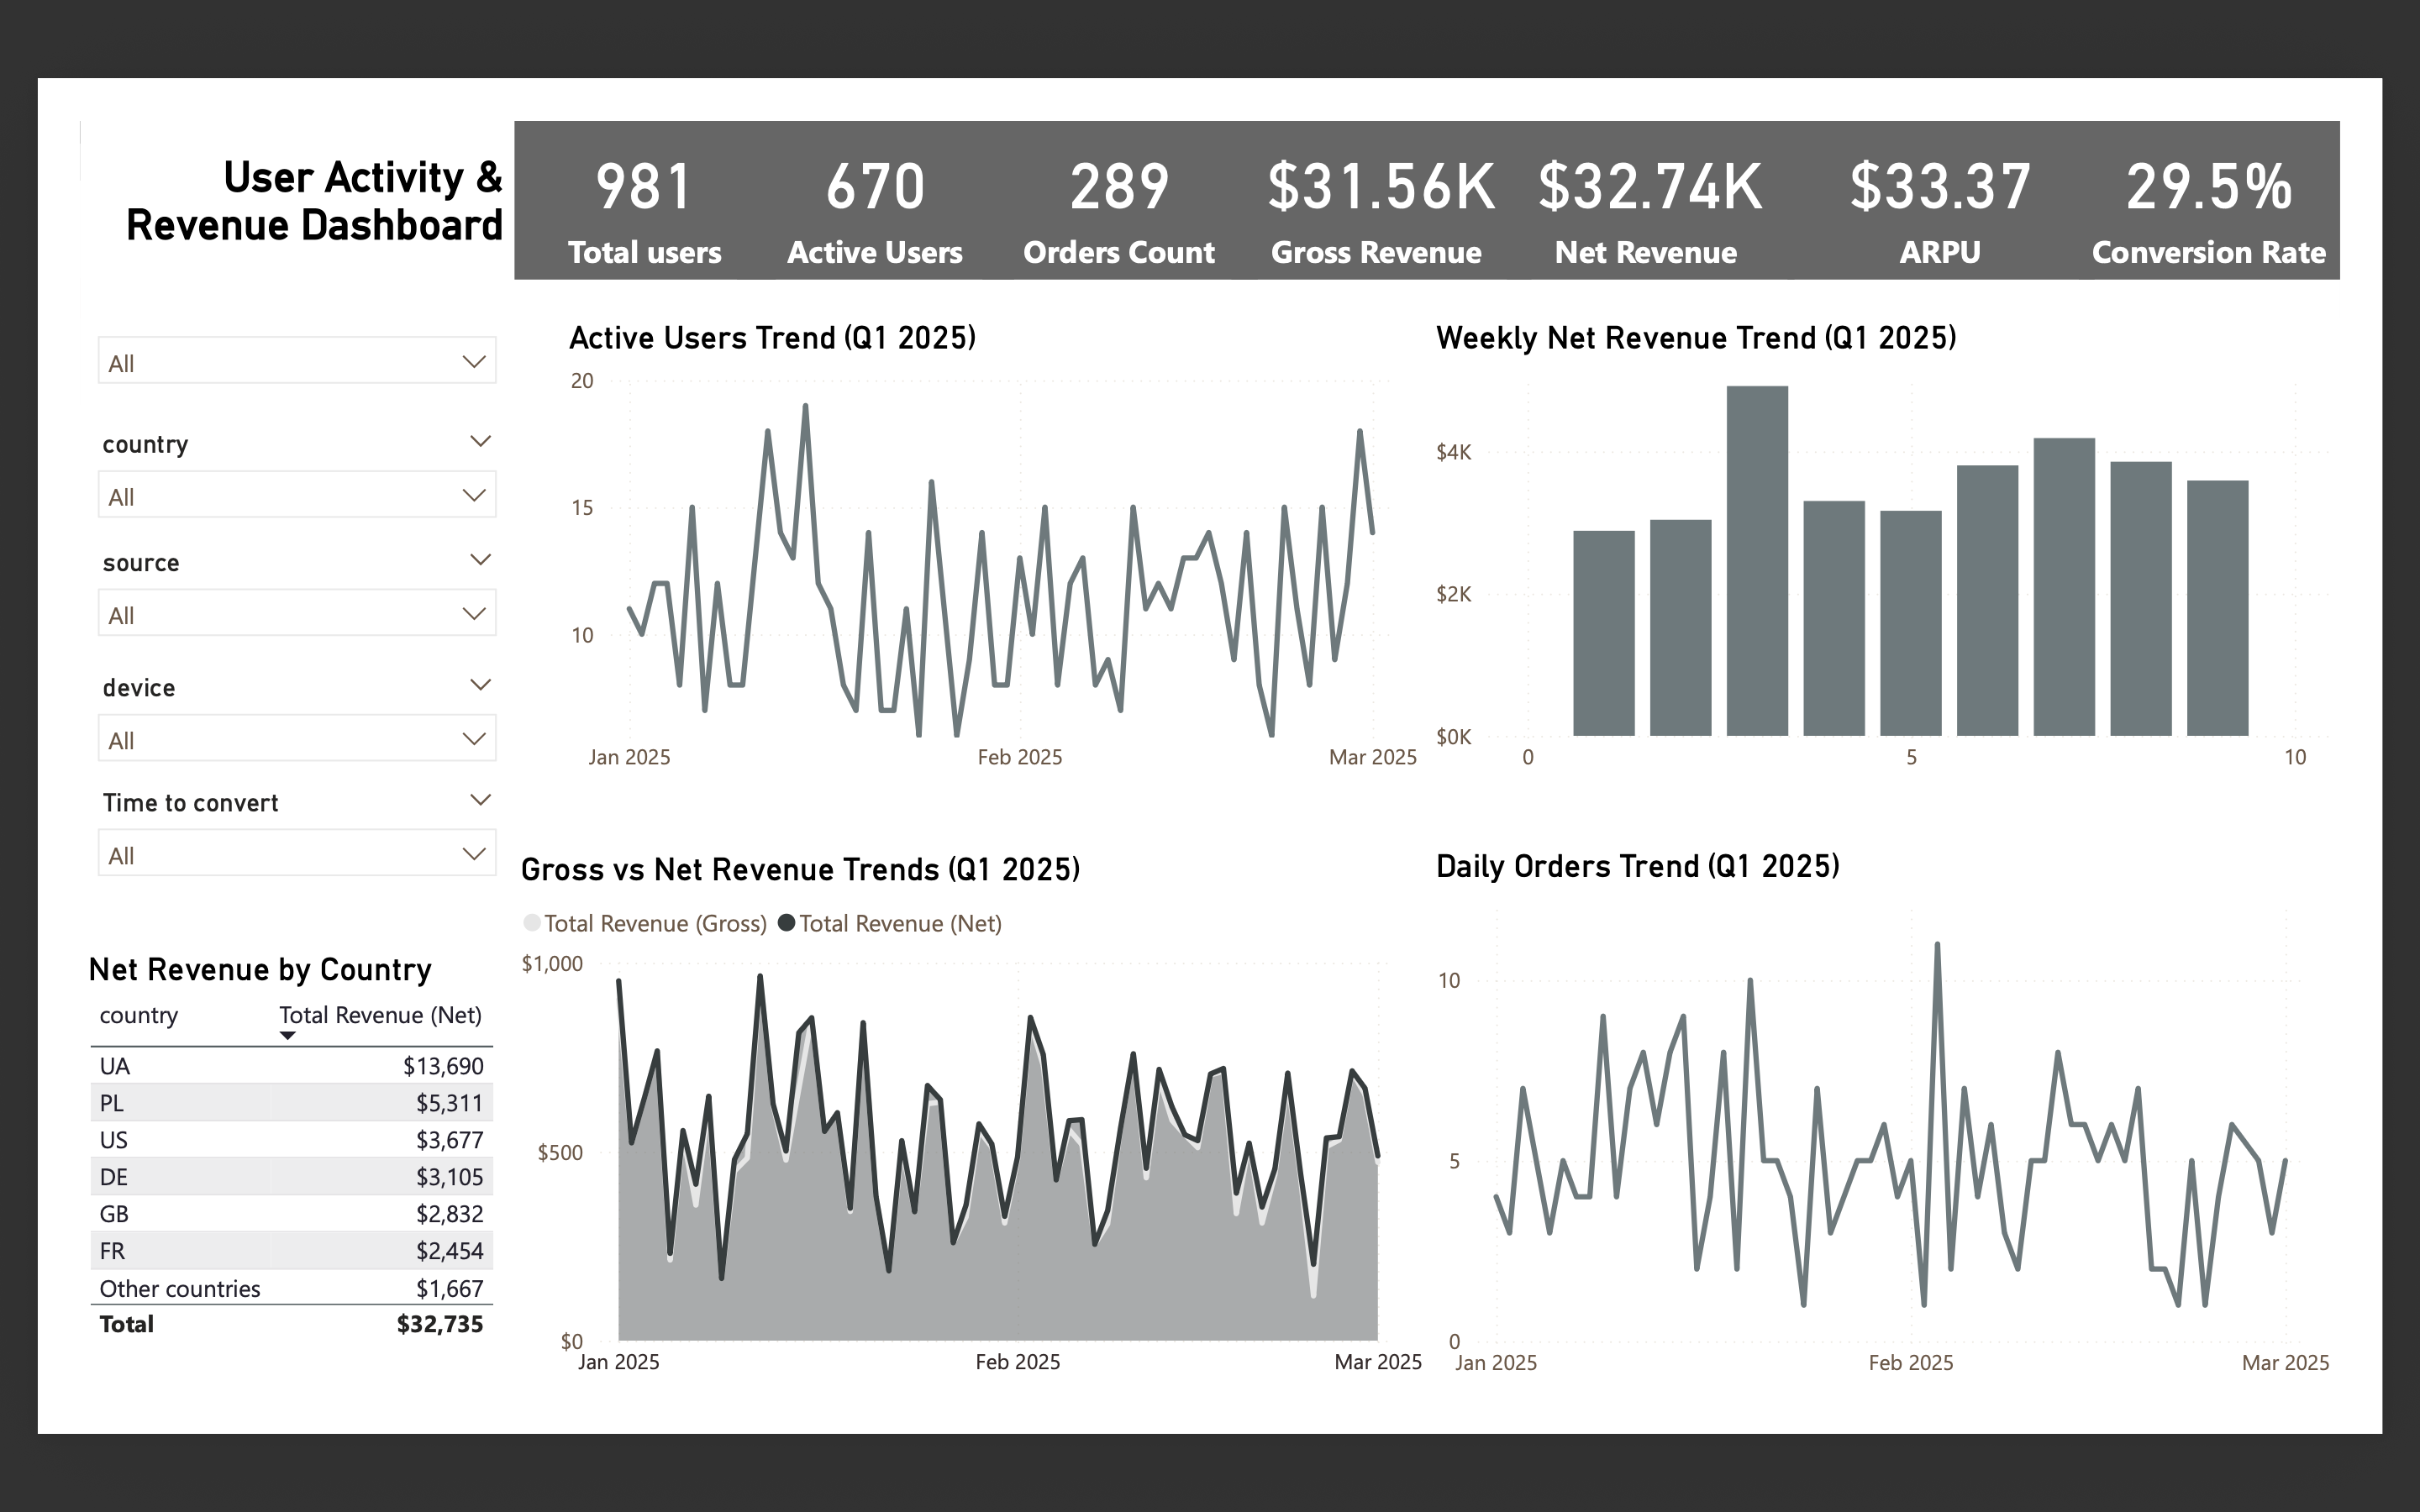

The dashboard page shown, as its layout file describes it:
{"tool":"powerbi","page":{"name":"User Activity & Revenue – 2025 Q1","canvas":[1280,720],"ordinal":0},"visuals":[{"type":"card","fields":{"Values":["_calc.Total users"]},"box":[245.9,0,147.7,89.7],"z":0,"group":"g1"},{"type":"lineChart","title":"Active Users Trend (Q1 2025)","fields":{"Y":["_calc.Active Users"],"Category":["Date.Date.Variation.Date Hierarchy.Year","Date.Date.Variation.Date Hierarchy.Quarter","Date.Date.Variation.Date Hierarchy.Month","Date.Date.Variation.Date Hierarchy.Day"]},"box":[272.1,112.1,490.5,266.2],"z":0},{"type":"card","fields":{"Values":["_calc.Active Users"]},"box":[372.3,0,156.8,90.4],"z":1000,"group":"g1"},{"type":"areaChart","title":"Gross vs Net Revenue Trends (Q1 2025)","fields":{"Y":["_calc.Total Revenue (Gross)"],"Y2":["_calc.Total Revenue (Net)"],"Category":["Date.Date.Variation.Date Hierarchy.Year","Date.Date.Variation.Date Hierarchy.Quarter","Date.Date.Variation.Date Hierarchy.Month","Date.Date.Variation.Date Hierarchy.Day"]},"box":[245.2,412.7,520.4,308],"z":1000},{"type":"card","fields":{"Values":["_calc.Orders Count"]},"box":[510.5,0,156.8,90.4],"z":2000,"group":"g1"},{"type":"lineChart","title":"Daily Orders Trend (Q1 2025)","fields":{"Y":["_calc.Orders Count"],"Category":["Date.Date.Variation.Date Hierarchy.Year","Date.Date.Variation.Date Hierarchy.Quarter","Date.Date.Variation.Date Hierarchy.Month","Date.Date.Variation.Date Hierarchy.Day"]},"box":[762.6,411.2,517.4,309.5],"z":2000},{"type":"card","fields":{"Values":["_calc.Total Revenue (Gross)"]},"box":[651.4,0,170.1,90],"z":3000,"group":"g1"},{"type":"clusteredColumnChart","title":"Weekly Net Revenue Trend (Q1 2025)","fields":{"Category":["Date.Week"],"Y":["_calc.Total Revenue (Net)"]},"box":[762.6,112.1,518.9,266.2],"z":3000},{"type":"card","fields":{"Values":["_calc.Total Revenue (Net)"]},"box":[808.3,0,162.2,90.4],"z":4000,"group":"g1"},{"type":"tableEx","title":"Net Revenue by Country","fields":{"Values":["users.country","_calc.Total Revenue (Net)"]},"box":[0,469.5,245.2,251.2],"z":4000},{"type":"card","fields":{"Values":["_calc.ARPU"]},"box":[966.5,0,174.1,90.4],"z":5000,"group":"g1"},{"type":"slicer","fields":{"Values":["Date.Date"]},"box":[0,111.7,245.9,58.5],"z":5000},{"type":"card","fields":{"Values":["_calc.Conversion Rate"]},"box":[1132.3,0,147.7,89.7],"z":6000,"group":"g1"},{"type":"slicer","fields":{"Values":["users.country"]},"box":[0,170.1,245.9,66.5],"z":6000},{"type":"slicer","fields":{"Values":["users.source"]},"box":[0,236.6,245.9,83.7],"z":7000},{"type":"slicer","fields":{"Values":["users.device"]},"box":[0,308.4,245.9,69.1],"z":8000},{"type":"slicer","fields":{"Values":["users.Time_to_convert_group"]},"box":[0,373.5,245.9,74.4],"z":9000},{"type":"group","id":"g1","title":"Group 1","box":[245.9,0,1034.1,90.4],"z":10000},{"type":"textbox","box":[0,12.7,244.8,76.5],"z":11000}]}

Visuals, with their boxes on the page's 1280x720 design canvas (x1, y1, x2, y2). These are canvas units, not pixel positions in the 2420x1512 screenshot, which may show the page scaled, cropped or inside an application window:
card - _calc.Total users: l=246, t=0, r=394, b=90
"Active Users Trend (Q1 2025)" lineChart: l=272, t=112, r=763, b=378
card - _calc.Active Users: l=372, t=0, r=529, b=90
"Gross vs Net Revenue Trends (Q1 2025)" areaChart: l=245, t=413, r=766, b=721
card - _calc.Orders Count: l=510, t=0, r=667, b=90
"Daily Orders Trend (Q1 2025)" lineChart: l=763, t=411, r=1280, b=721
card - _calc.Total Revenue (Gross): l=651, t=0, r=822, b=90
"Weekly Net Revenue Trend (Q1 2025)" clusteredColumnChart: l=763, t=112, r=1282, b=378
card - _calc.Total Revenue (Net): l=808, t=0, r=970, b=90
"Net Revenue by Country" tableEx: l=0, t=470, r=245, b=721
card - _calc.ARPU: l=966, t=0, r=1141, b=90
slicer - Date.Date: l=0, t=112, r=246, b=170
card - _calc.Conversion Rate: l=1132, t=0, r=1280, b=90
slicer - users.country: l=0, t=170, r=246, b=237
slicer - users.source: l=0, t=237, r=246, b=320
slicer - users.device: l=0, t=308, r=246, b=378
slicer - users.Time_to_convert_group: l=0, t=374, r=246, b=448
"Group 1" group: l=246, t=0, r=1280, b=90
textbox: l=0, t=13, r=245, b=89
